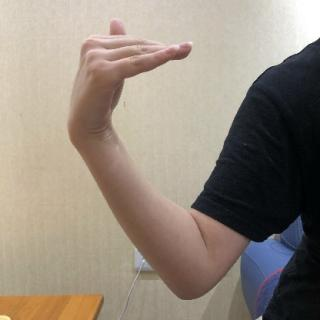KHAA: (66, 17, 200, 142)
